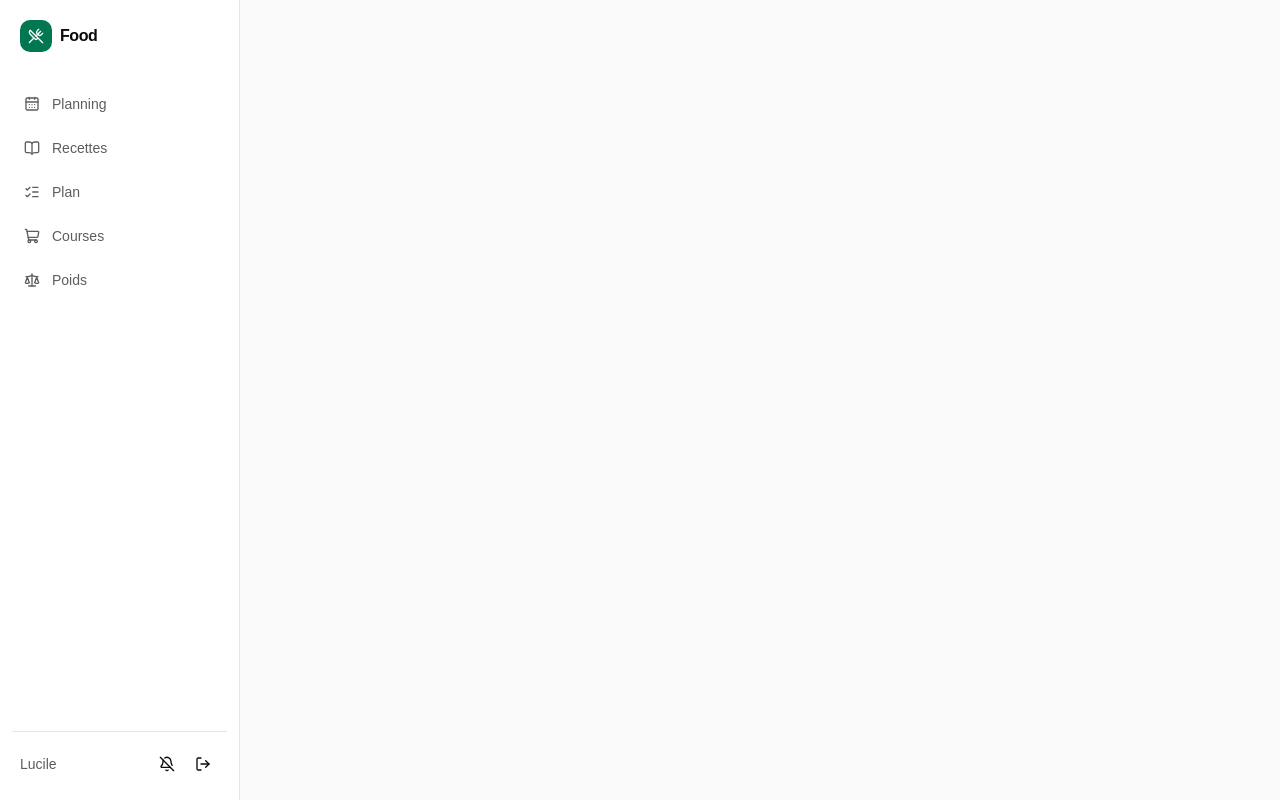
notifications de l’application › explique comment débloquer des notifications refusées
Click the button named "Notifications": coordinates (167, 764) 151,748 -> 183,780
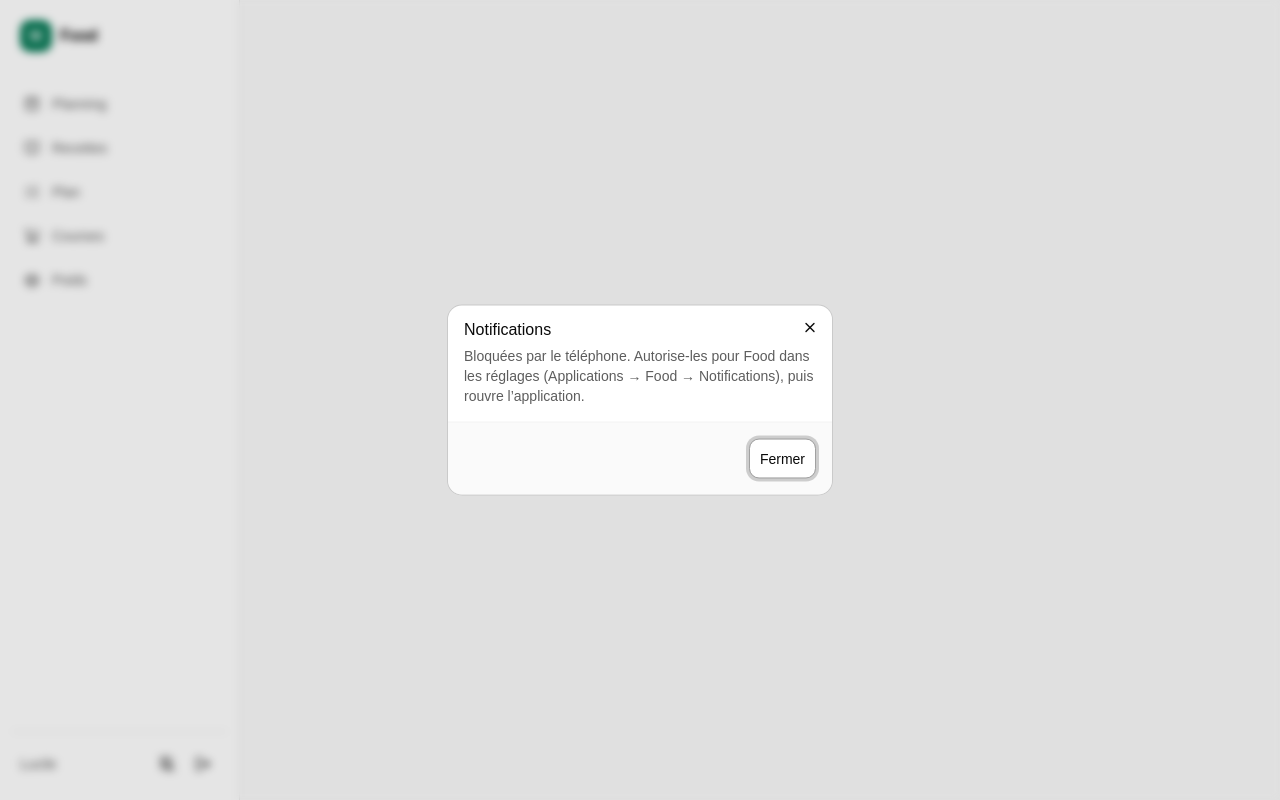
Now the dialog shows "Bloquées par le téléphone", box 464,348 -> 813,404
